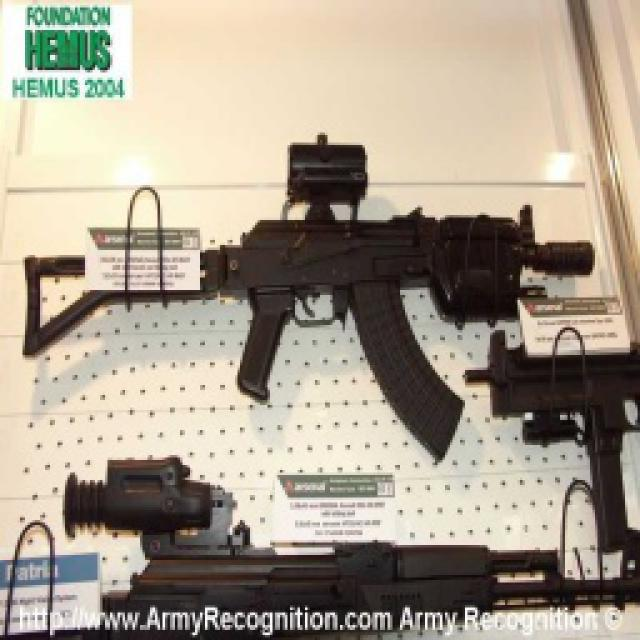long weapon: (24, 141, 590, 421), (0, 444, 593, 638)
